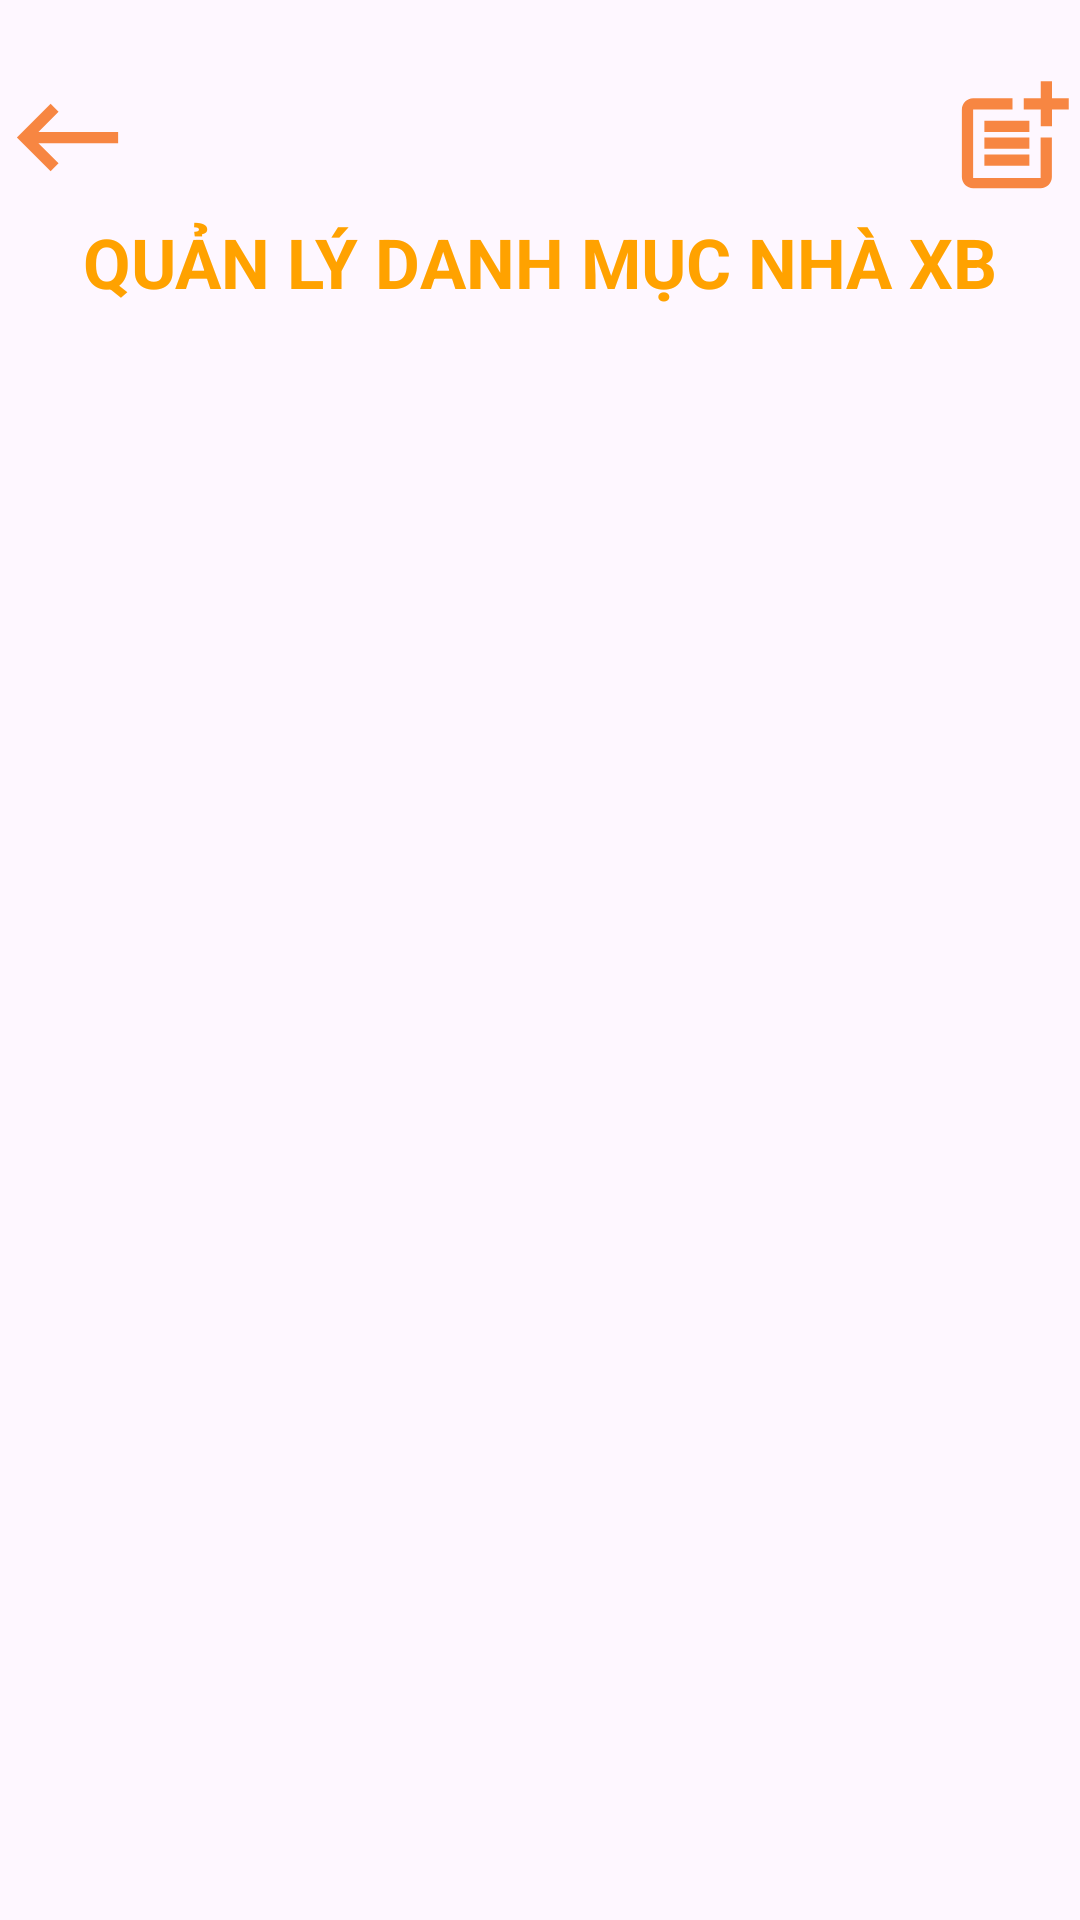

Where icons sit on this 1080px x 1920px app screen, as (x1, y1, x2, y2):
add: (962, 81, 1069, 189)
previou: (17, 104, 118, 171)
